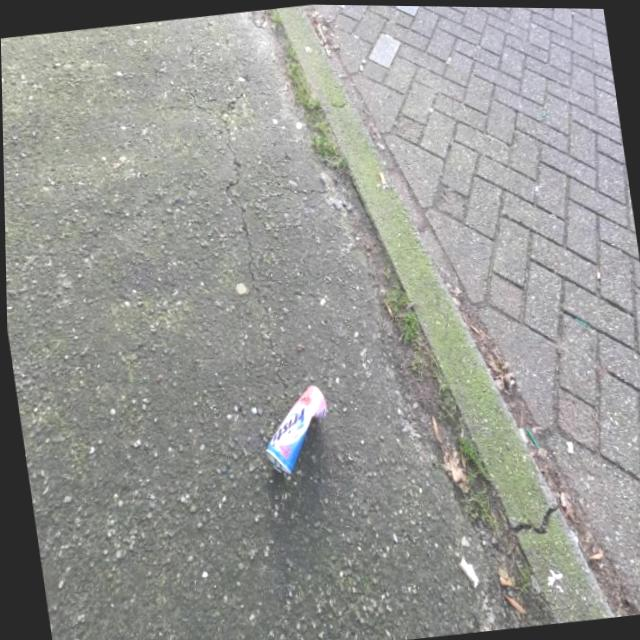Can-Metal: (247, 366, 337, 479)
